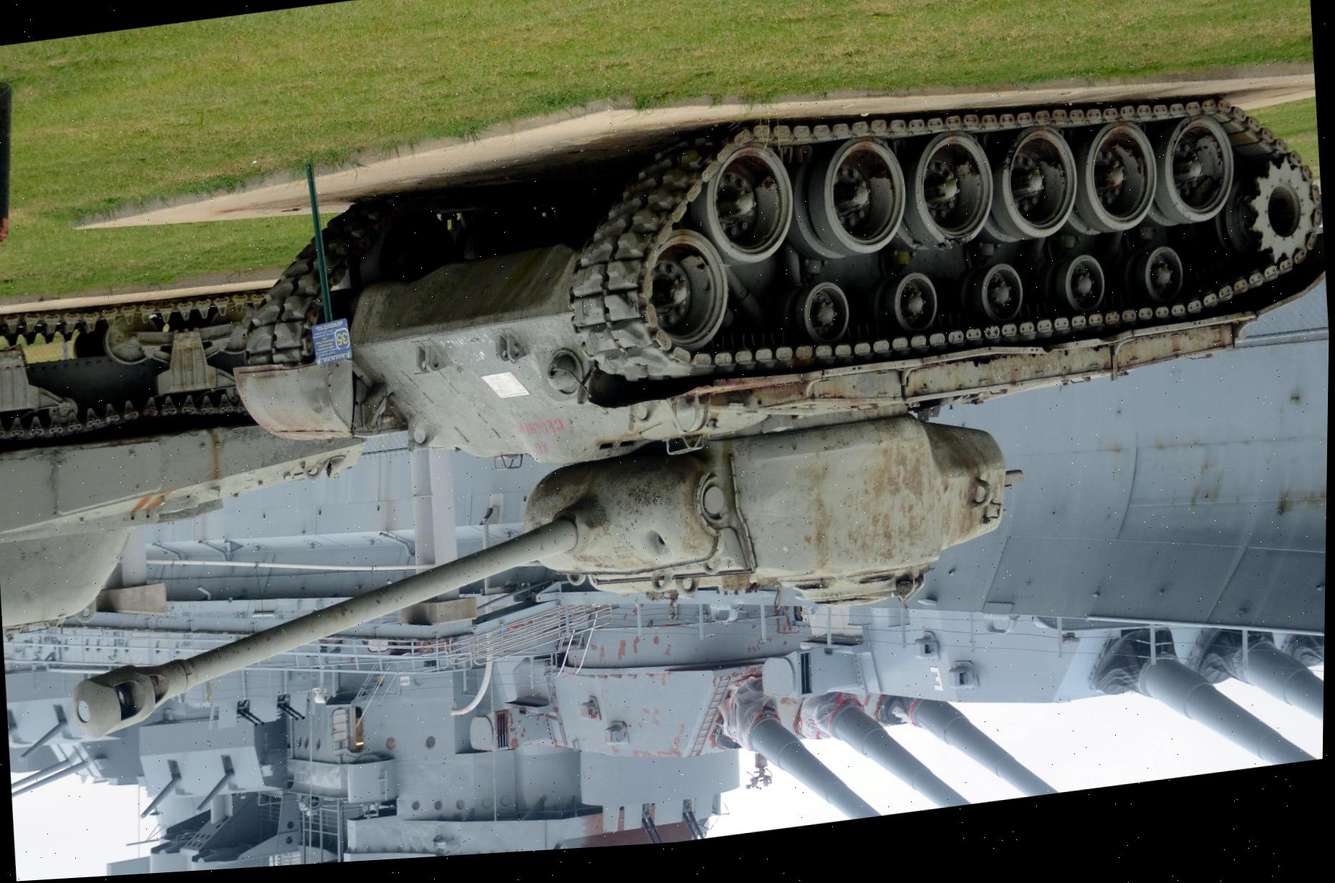tank: (31, 45, 1333, 748), (0, 259, 390, 639)
